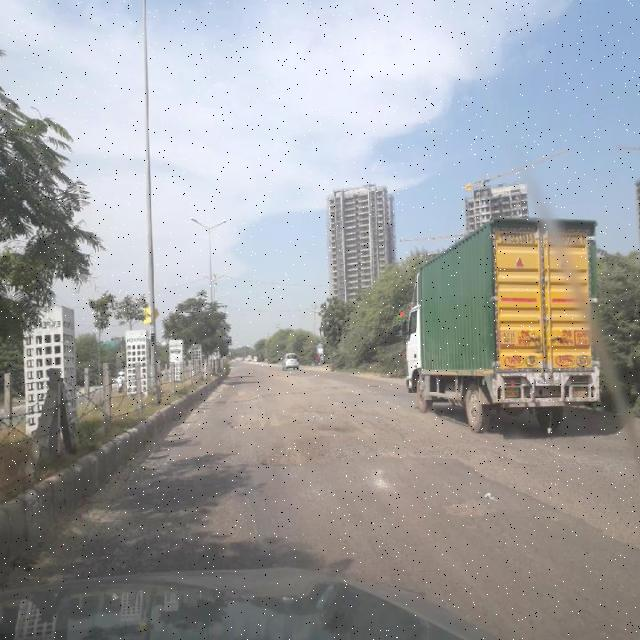D20: (214, 468, 278, 554)
D40: (259, 436, 456, 466), (495, 434, 605, 484), (286, 404, 412, 430), (447, 487, 498, 533), (212, 401, 282, 432)
